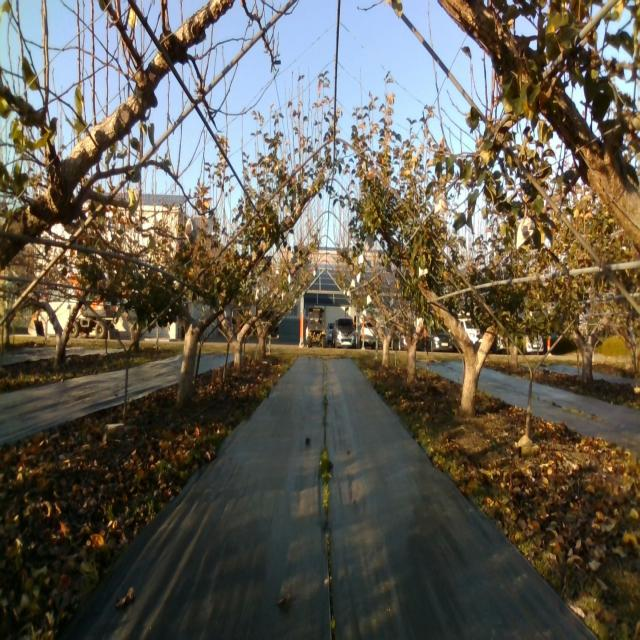pearbags: (515, 215, 536, 249), (184, 215, 199, 246), (434, 193, 451, 216)
